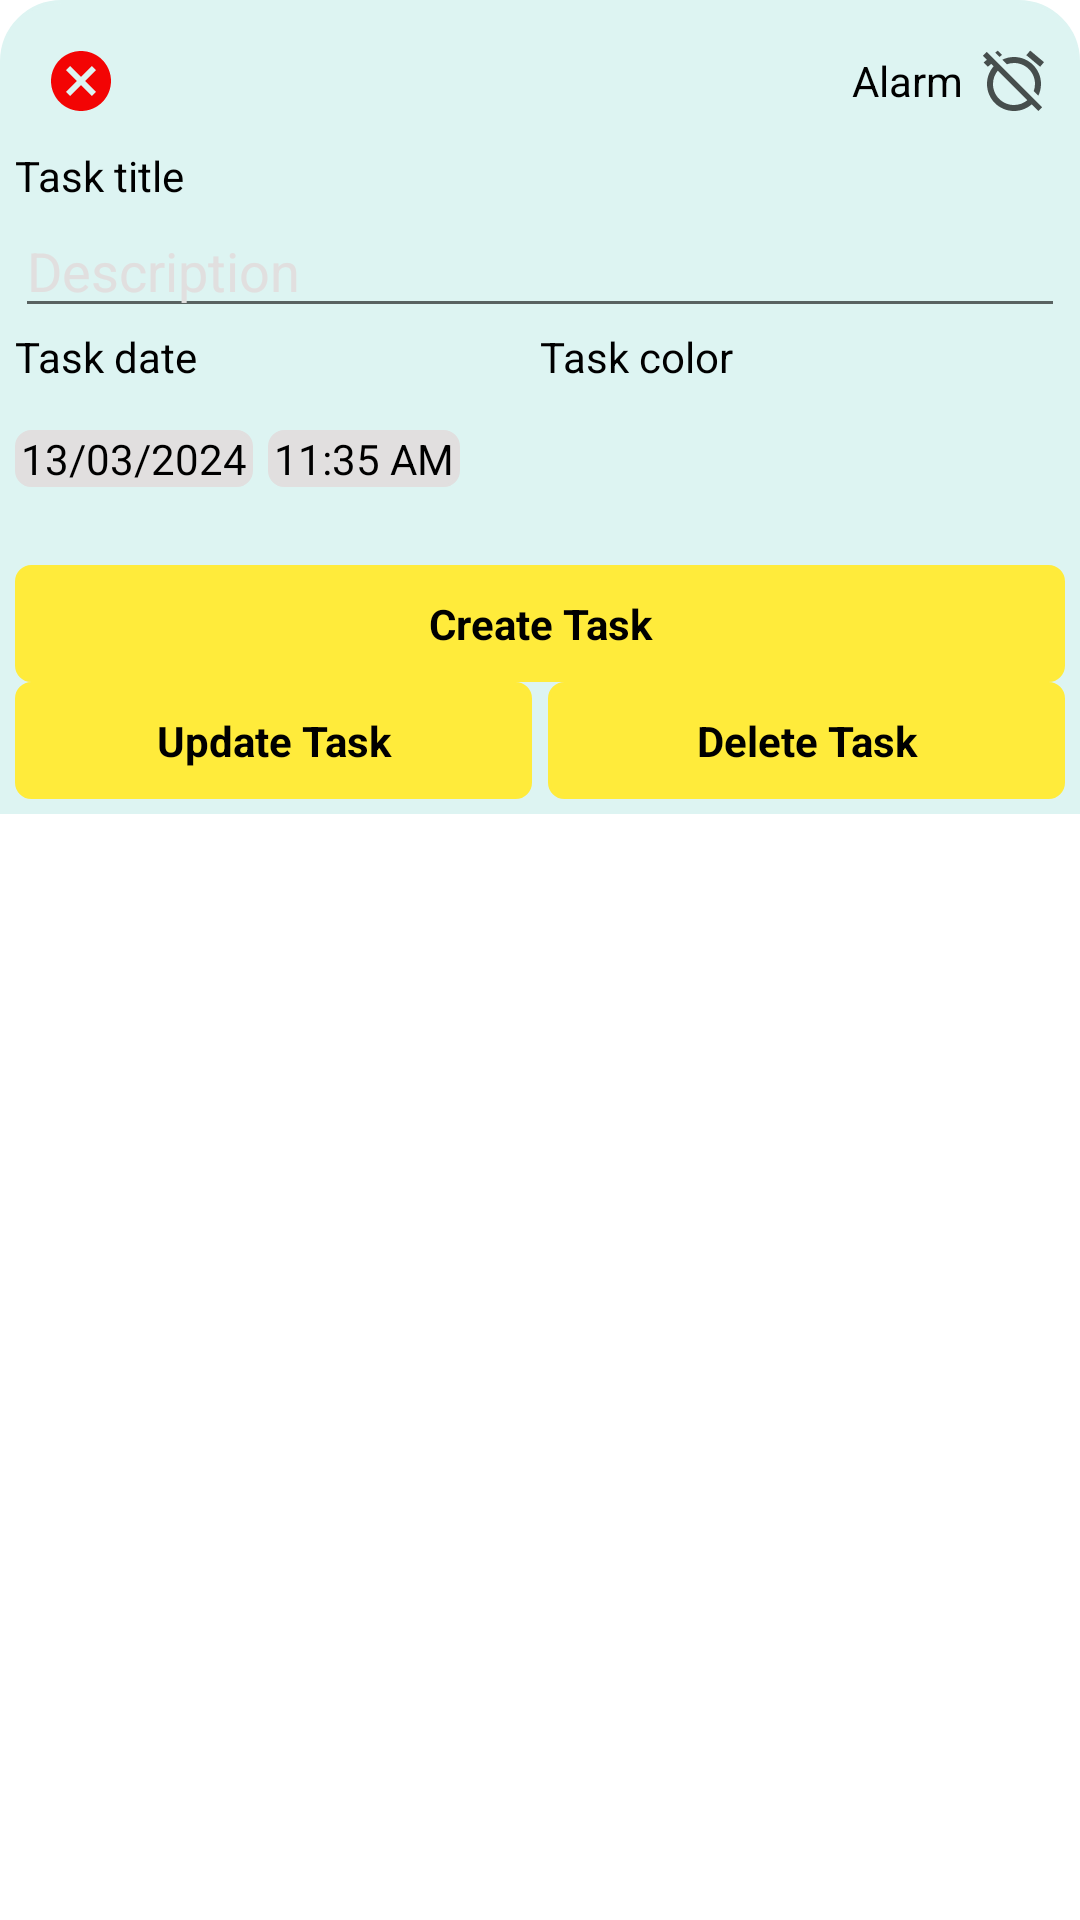

Named icons in this screenshot (1080*1920) and their centers, point (x, y):
cancel: point (81, 81)
